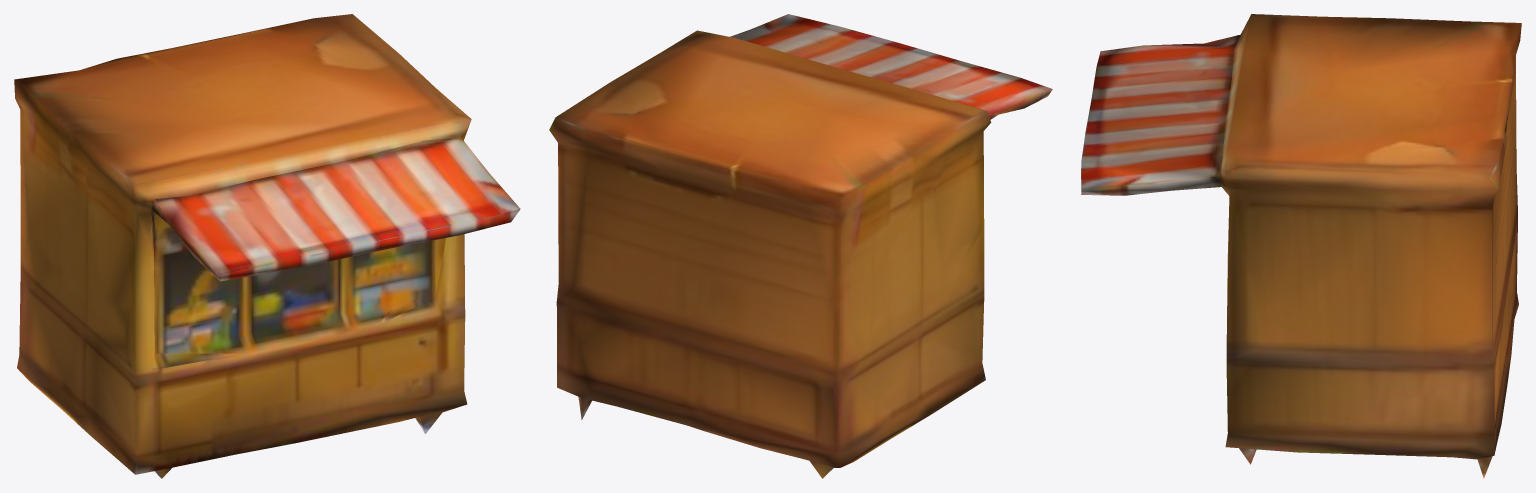
Rendered from shop.fbx.
The picture shows the model from 3 angles, left to right: view 1: azimuth 30°, elevation 25°; view 2: azimuth 150°, elevation 25°; view 3: azimuth 270°, elevation 25°; orthographic projection. The views are drawn at different scales.
Visible parts, largest first — view 1: shop; view 2: shop; view 3: shop.
Part boxes in pixels (x1,y1,x2,y2): shop: [14, 14, 520, 478]; shop: [549, 14, 1052, 478]; shop: [1081, 14, 1521, 478].
Bounding box in the file's own units: 147 × 131 × 166.
